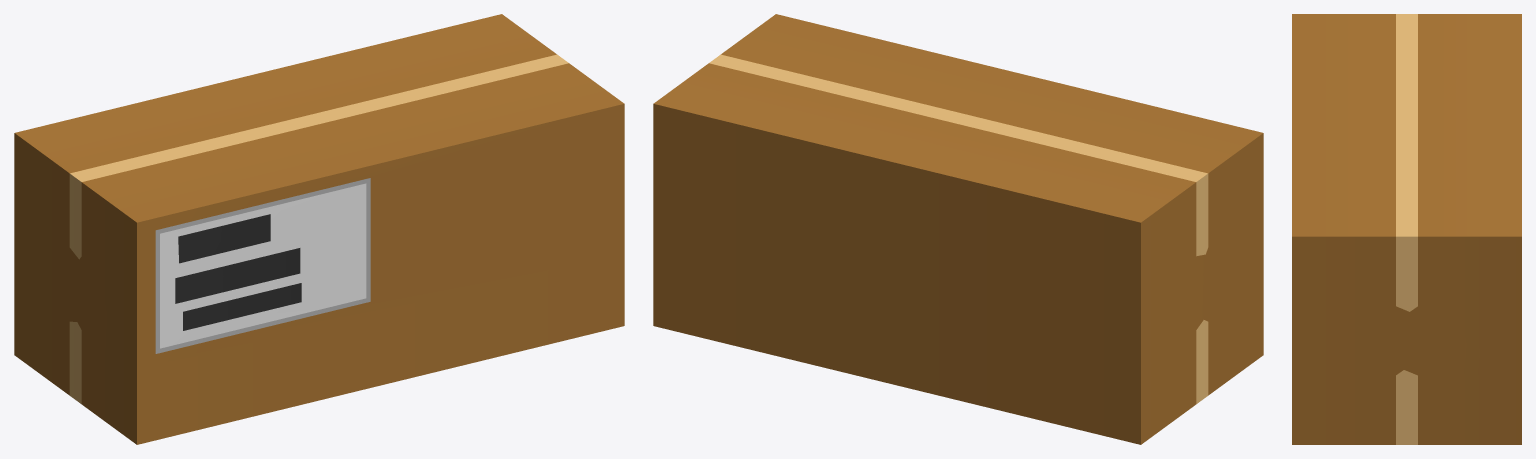
Rendered from Dark Packing Box #1.fbx.
The picture shows the model from 3 angles, left to right: view 1: azimuth 30°, elevation 25°; view 2: azimuth 150°, elevation 25°; view 3: azimuth 270°, elevation 25°; orthographic projection. The views are drawn at different scales.
Visible parts, largest first — view 1: Small Dark Packing Box #3; view 2: Small Dark Packing Box #3; view 3: Small Dark Packing Box #3.
Boxes of the visible parts, left/top/right/bottom form: Small Dark Packing Box #3: left=14, top=14, right=624, bottom=444; Small Dark Packing Box #3: left=653, top=14, right=1263, bottom=444; Small Dark Packing Box #3: left=1292, top=14, right=1521, bottom=444.
Size of the model in its own units: 127 by 127 by 292.
Materials: 1 (1 with a texture image).
